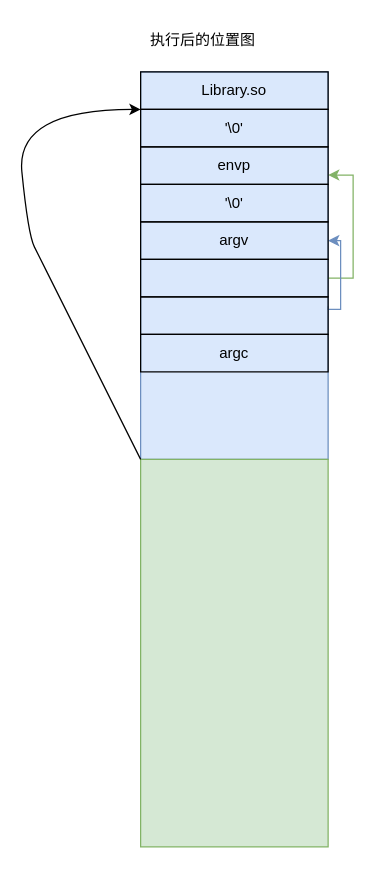
Some shapes in this 386 by 869 pixel diagram are drawn without their labels. Each missing label, with the centre of its shape:
"argv pointer" goes at [233,315].
"envp pointer" goes at [233,277].
